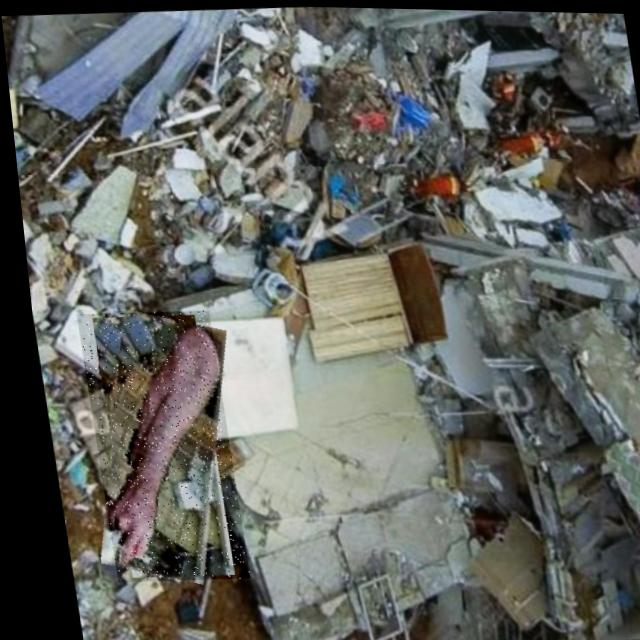Person in Rubble: (68, 307, 237, 585)
